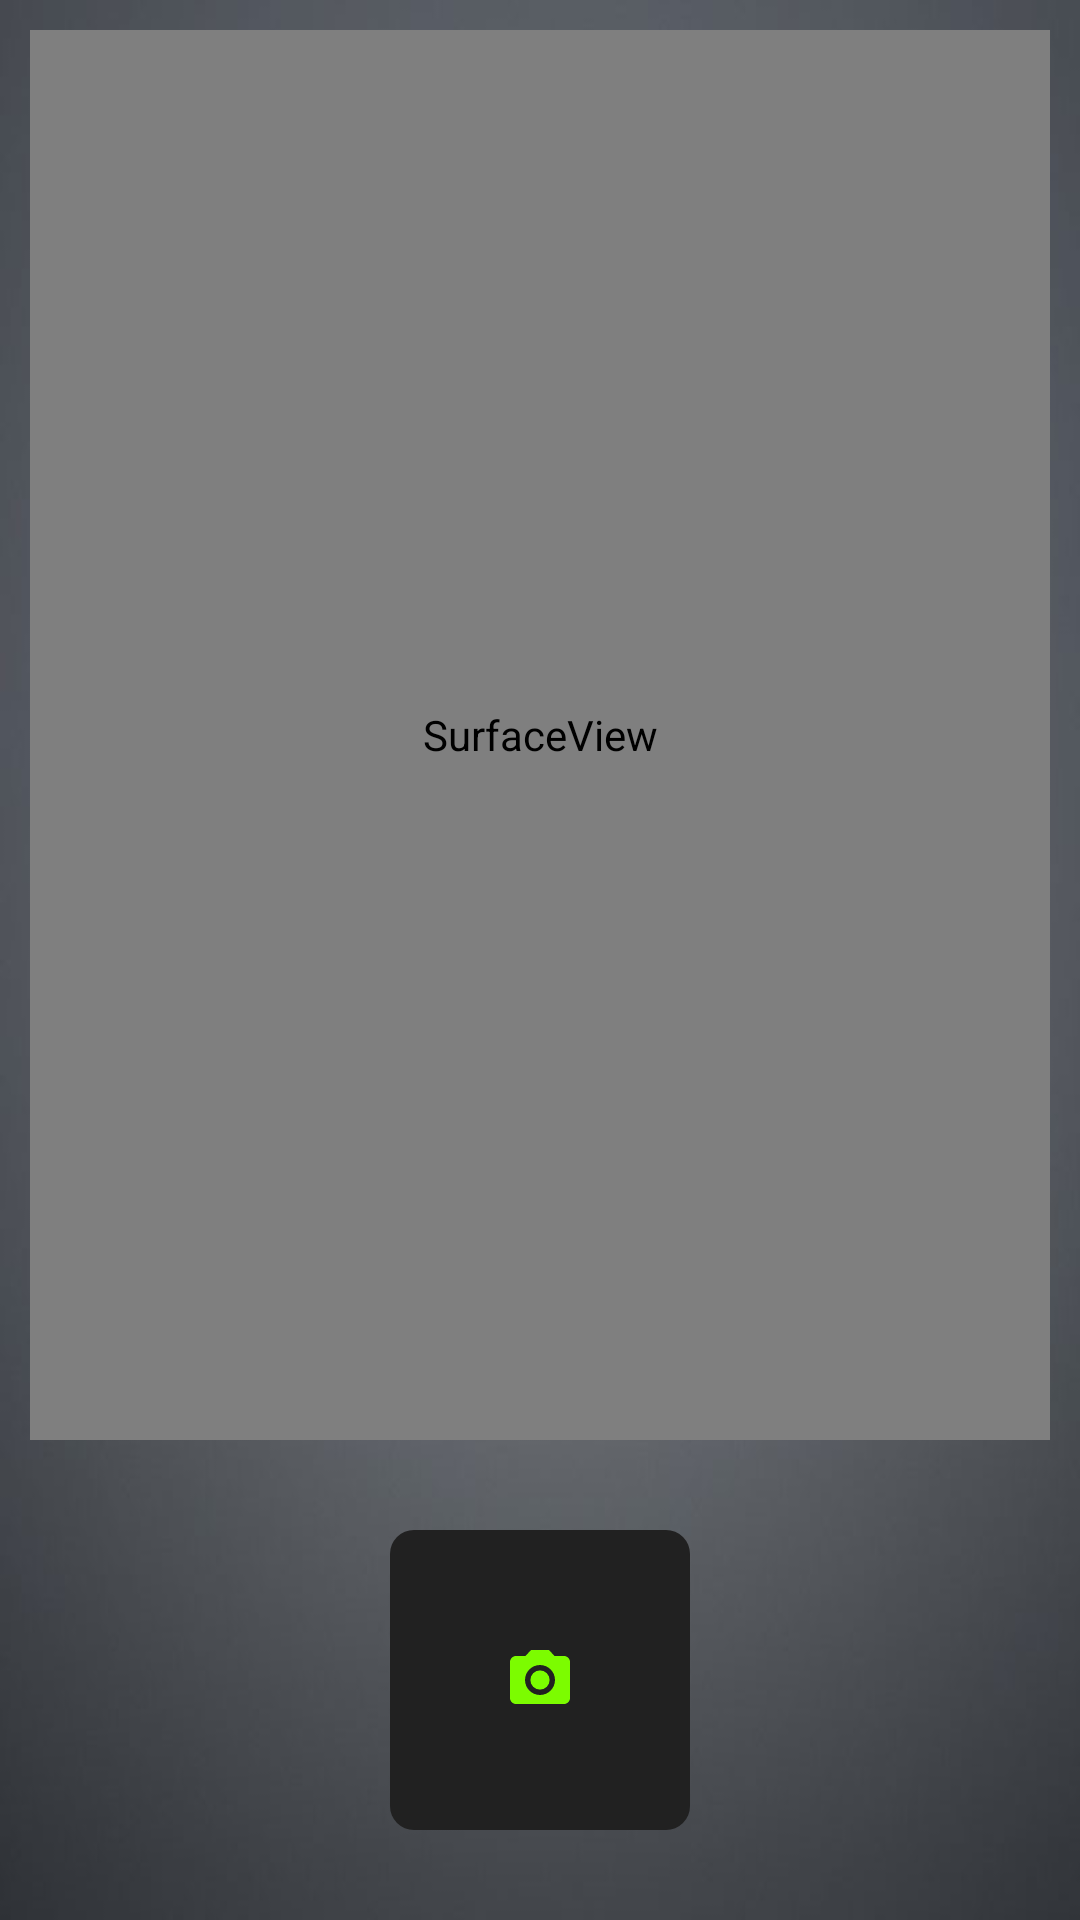

Screen size 1080×1920. Icon name, then its box in pixels as [x1, y1, x2, y2]:
take picture: [390, 1530, 690, 1830]
